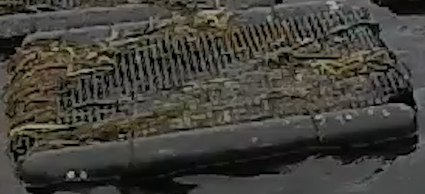bag: (2, 3, 416, 188)
